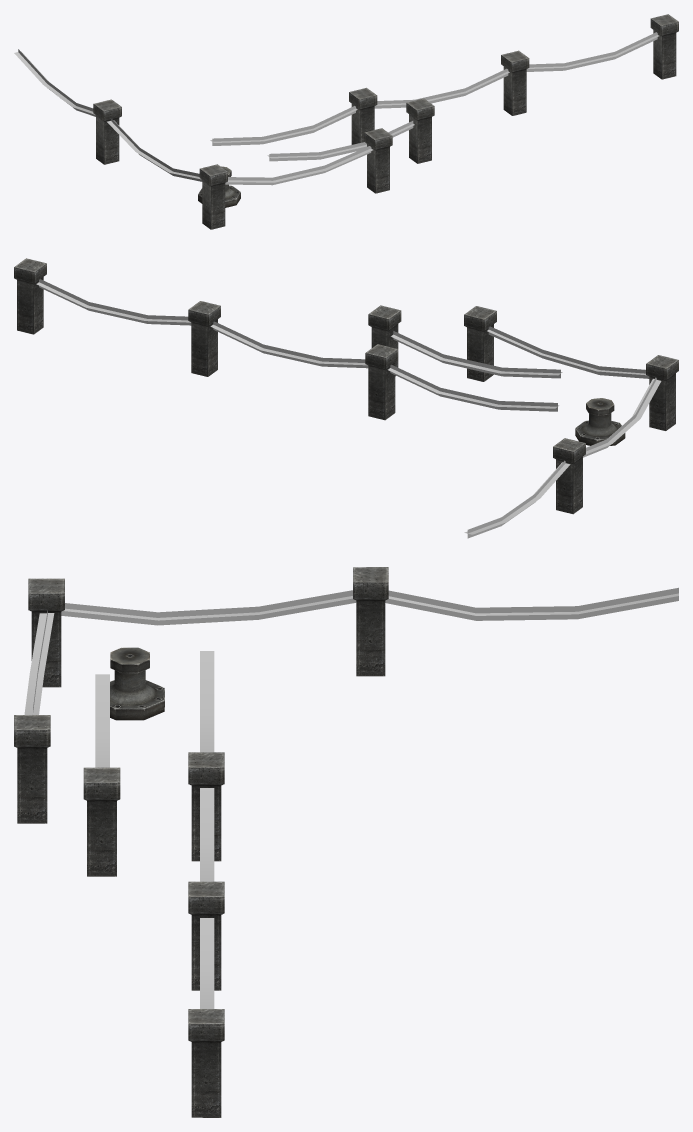
The model's file is wharf_01_01.FBX.
The picture shows the model from 3 angles, top to bottom: view 1: azimuth 30°, elevation 25°; view 2: azimuth 150°, elevation 25°; view 3: azimuth 270°, elevation 25°; orthographic projection. The views are drawn at different scales.
Parts seen in each view (by area): view 1: 02, 01, 03, 04, 05; view 2: 02, 01, 04, 05, 03; view 3: 01, 02, 03, 05, 04.
Boxes of the visible parts, box(x1,y1,x2,y2) form: 02: box(210, 14, 678, 145); 01: box(14, 49, 392, 229); 03: box(406, 98, 434, 163); 04: box(267, 121, 414, 161); 05: box(198, 166, 240, 207); 02: box(14, 258, 559, 420); 01: box(464, 306, 678, 538); 04: box(391, 331, 562, 378); 05: box(575, 398, 625, 445); 03: box(368, 305, 401, 376); 01: box(14, 567, 678, 823); 02: box(188, 651, 224, 1117); 03: box(83, 767, 120, 876); 05: box(110, 647, 164, 720); 04: box(95, 674, 109, 767).
Size of the model in its own units: 1278 by 800 by 137.
